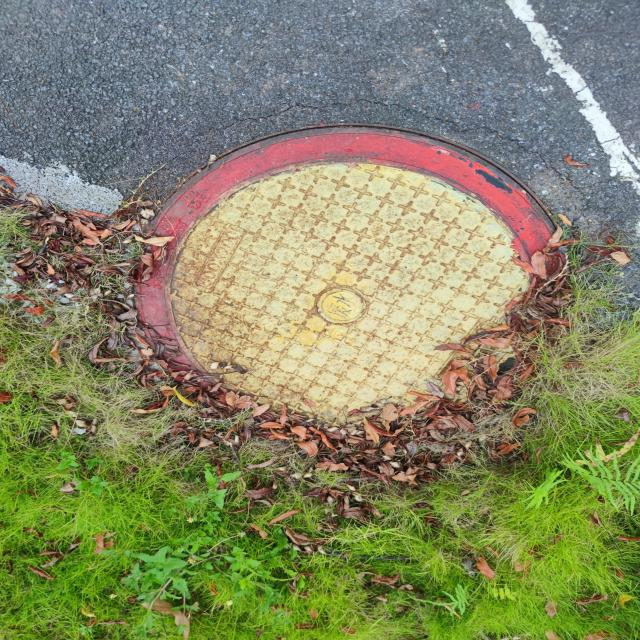Good: (118, 120, 581, 472)
